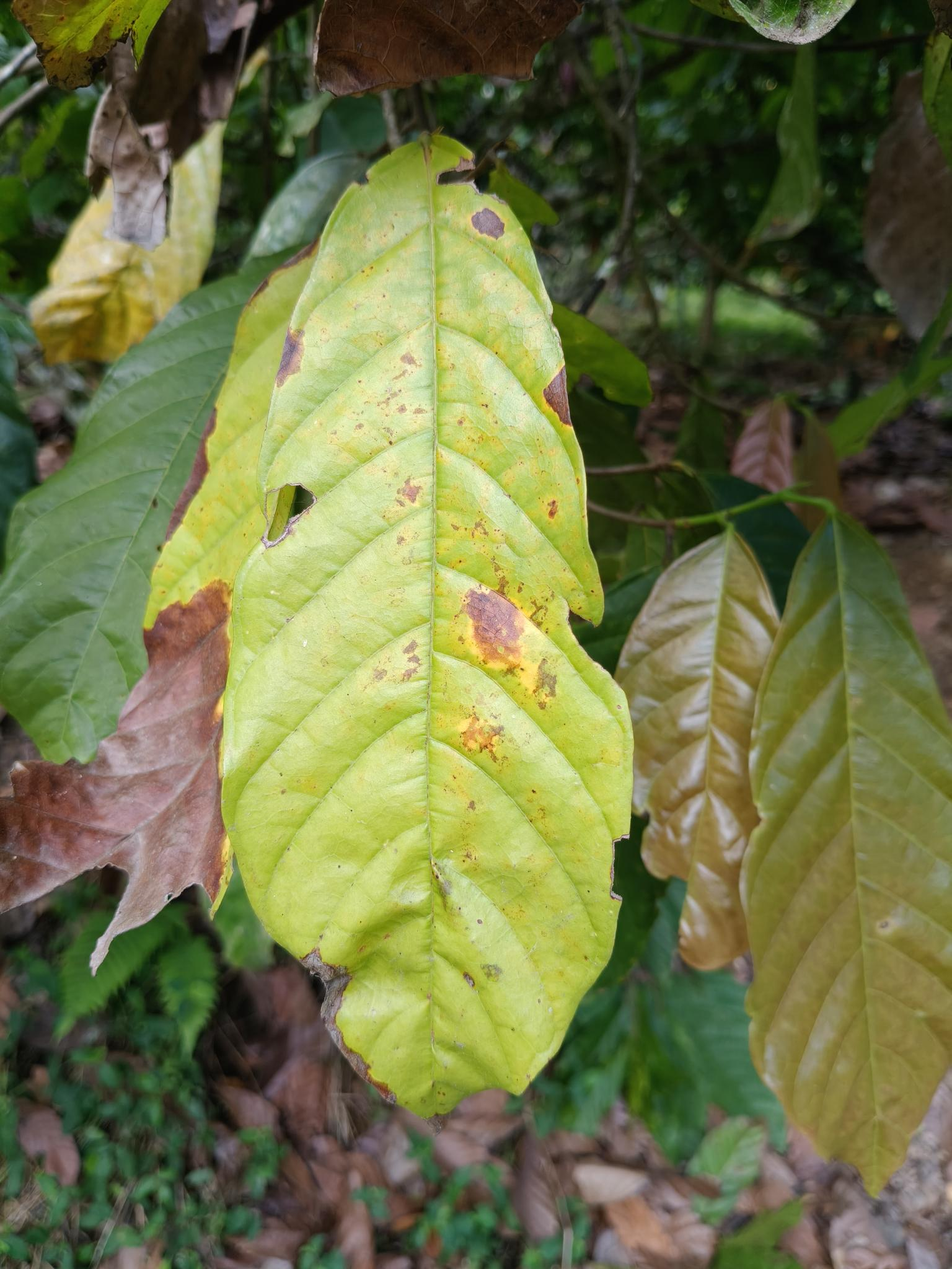Fosforo: (226, 120, 634, 1155)
